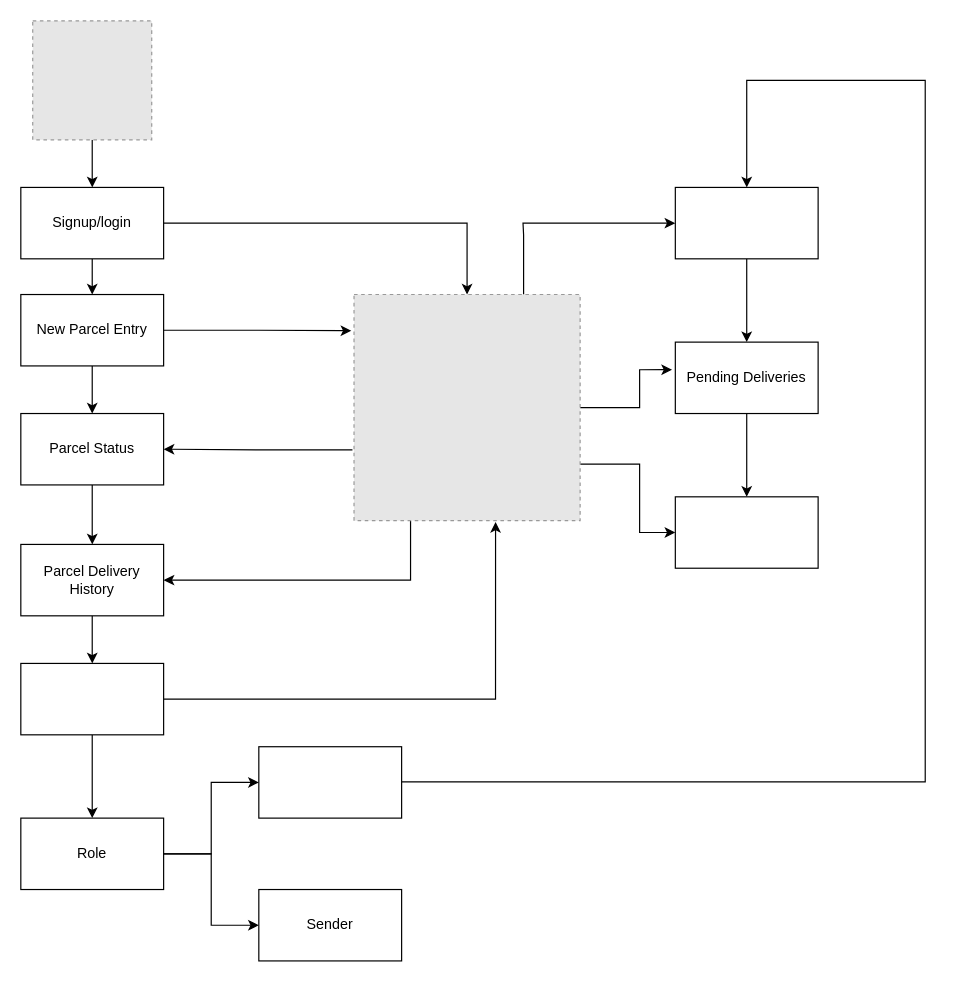
This 956x982 diagram has some shape labels left out. Grey dashed boxes stand in for pictures. The centre of each missing label's shape, as x and y in pixels:
"Parcel Delivery Log" goes at point 746,532.
"Register as Delivery Partner" goes at point 92,698.
"Search Parcel" goes at point 746,222.
"Traveler" goes at point 330,782.
